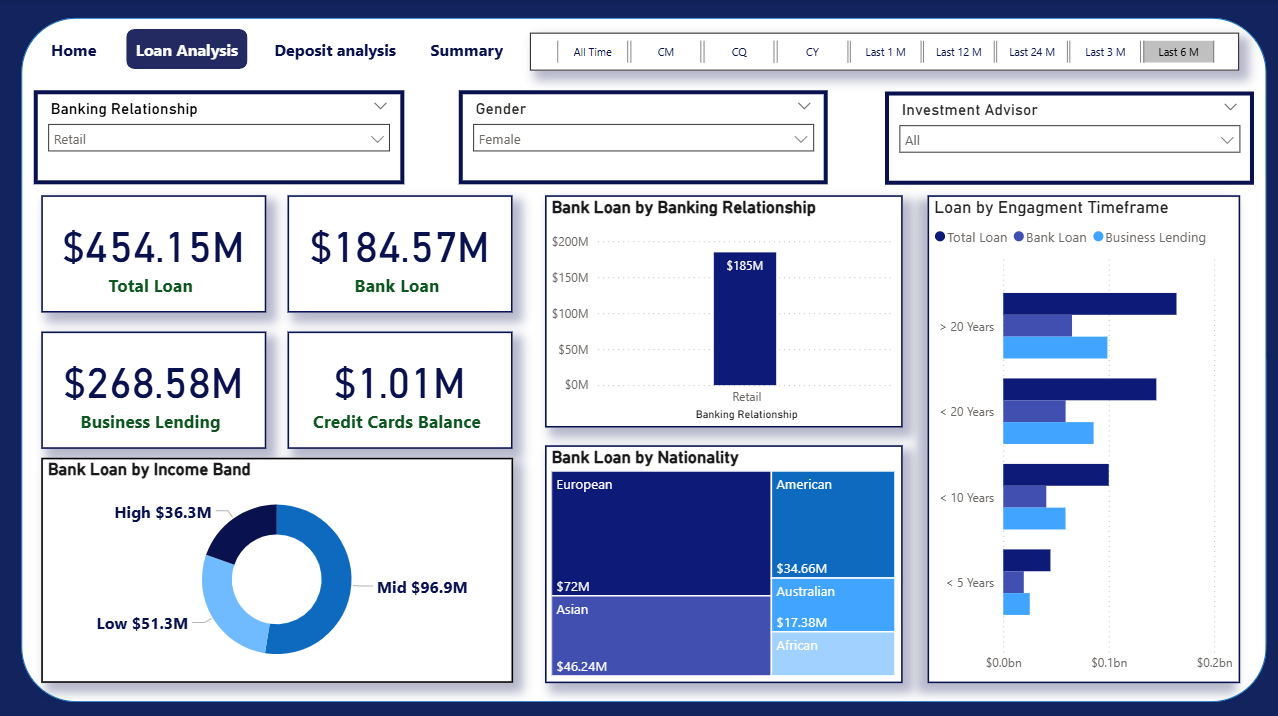

What the dashboard file says about the page in this screenshot:
{"tool":"powerbi","page":{"name":"Loan Analysis","canvas":[1280,720],"ordinal":1},"visuals":[{"type":"shape","box":[21.7,18.8,1239.2,681.1],"z":0},{"type":"actionButton","box":[125.6,29.9,120.7,39.8],"z":1000},{"type":"actionButton","box":[419.2,29.9,90.8,39.8],"z":2000},{"type":"actionButton","box":[263.7,29.9,139.3,39.8],"z":3000},{"type":"actionButton","box":[41.1,29.9,64.7,39.8],"z":4000},{"type":"slicer","fields":{"Values":["Period.Name"]},"box":[527.8,33.3,705.7,37.6],"z":5000},{"type":"slicer","fields":{"Values":["Banking Relationship.Banking Relationship"]},"box":[33.3,91.1,368.7,94],"z":6000},{"type":"slicer","fields":{"Values":["Gender.Gender"]},"box":[456.9,91.1,367.3,94],"z":7000},{"type":"slicer","fields":{"Values":["Investment Advisor.Investment Advisor"]},"box":[880.6,92.5,367.3,92.5],"z":8000},{"type":"card","fields":{"Values":["Dax Measures.Total Loan"]},"box":[41.1,195.3,223.9,116.9],"z":9000},{"type":"card","fields":{"Values":["Dax Measures.Bank Loan"]},"box":[286.1,195.3,223.9,116.9],"z":10000},{"type":"card","fields":{"Values":["Dax Measures.Business Lending"]},"box":[41.1,330.9,223.9,116.9],"z":11000},{"type":"card","fields":{"Values":["Dax Measures.Credit Cards Balance"]},"box":[286.1,330.9,223.9,116.9],"z":12000},{"type":"donutChart","fields":{"Category":["Banking.Income Band"],"Y":["Dax Measures.Bank Loan"]},"box":[40.5,456.9,470,224.1],"z":13000},{"type":"columnChart","title":"Bank Loan by Banking Relationship ","fields":{"Category":["Banking Relationship.Banking Relationship"],"Y":["Dax Measures.Bank Loan"]},"box":[542.3,195.2,355.7,231.4],"z":14000},{"type":"treemap","title":"Bank Loan by Nationality ","fields":{"Group":["Banking.Nationality"],"Values":["Dax Measures.Bank Loan"]},"box":[542.3,443.9,355.7,237.1],"z":15000},{"type":"clusteredBarChart","title":"Loan by Engagment Timeframe","fields":{"Category":["Banking.Engagment Timeframe"],"Y":["Dax Measures.Total Loan","Dax Measures.Bank Loan","Dax Measures.Business Lending"]},"box":[922.6,195.2,310.9,485.9],"z":16000}]}

Visuals, with their boxes in screenshot pixels (x1, y1, x2, y2), scaled from the page's 1280x720 canvas onto the 1278x716 screenshot:
shape: <bbox>22, 19, 1259, 696</bbox>
actionButton: <bbox>125, 30, 246, 69</bbox>
actionButton: <bbox>419, 30, 509, 69</bbox>
actionButton: <bbox>263, 30, 402, 69</bbox>
actionButton: <bbox>41, 30, 106, 69</bbox>
slicer - Period.Name: <bbox>527, 33, 1232, 71</bbox>
slicer - Banking Relationship.Banking Relationship: <bbox>33, 91, 401, 184</bbox>
slicer - Gender.Gender: <bbox>456, 91, 823, 184</bbox>
slicer - Investment Advisor.Investment Advisor: <bbox>879, 92, 1246, 184</bbox>
card - Dax Measures.Total Loan: <bbox>41, 194, 265, 310</bbox>
card - Dax Measures.Bank Loan: <bbox>286, 194, 509, 310</bbox>
card - Dax Measures.Business Lending: <bbox>41, 329, 265, 445</bbox>
card - Dax Measures.Credit Cards Balance: <bbox>286, 329, 509, 445</bbox>
donutChart - Banking.Income Band x Dax Measures.Bank Loan: <bbox>40, 454, 510, 677</bbox>
"Bank Loan by Banking Relationship " columnChart: <bbox>541, 194, 897, 424</bbox>
"Bank Loan by Nationality " treemap: <bbox>541, 441, 897, 677</bbox>
"Loan by Engagment Timeframe" clusteredBarChart: <bbox>921, 194, 1232, 677</bbox>
